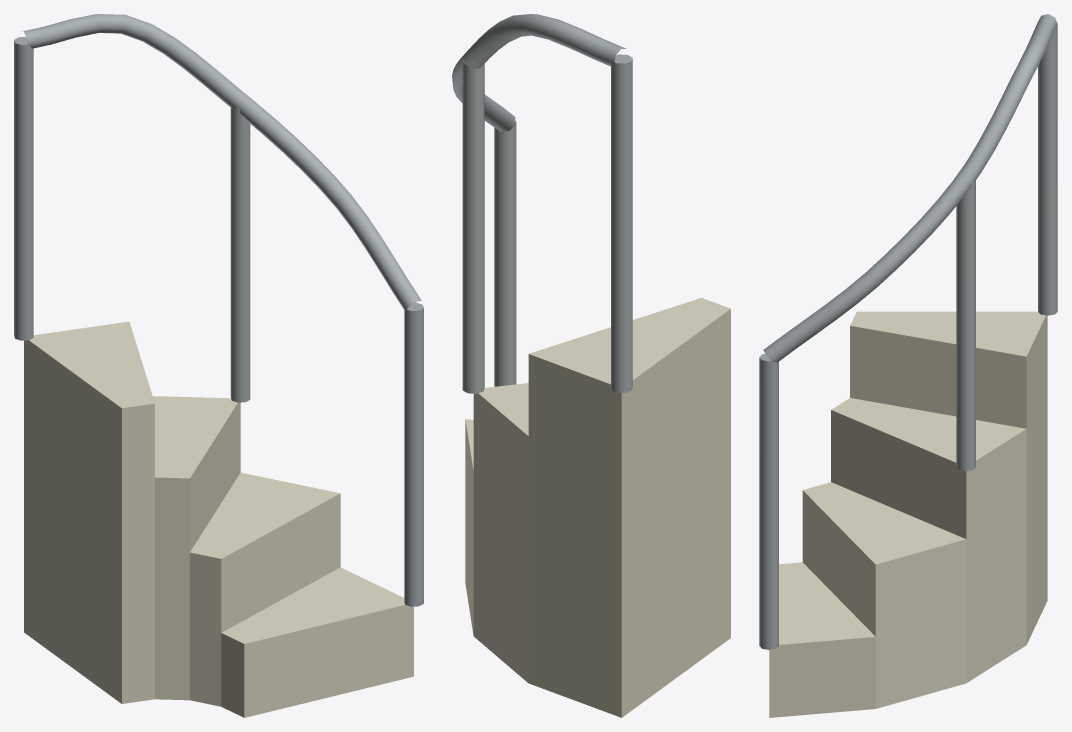
Rendered from rural-scavenging-settlements-stone-garden-stile-71b27c48__26600.glb.
The picture shows the model from 3 angles, left to right: view 1: azimuth 30°, elevation 25°; view 2: azimuth 150°, elevation 25°; view 3: azimuth 270°, elevation 25°; orthographic projection. The views are drawn at different scales.
Parts seen in each view (by area): view 1: stone-garden-stile; view 2: stone-garden-stile; view 3: stone-garden-stile.
Part boxes in pixels (left/top/right/bottom): stone-garden-stile: left=14, top=14, right=423, bottom=717; stone-garden-stile: left=452, top=14, right=730, bottom=717; stone-garden-stile: left=759, top=14, right=1057, bottom=717.
Size of the model in its own units: 0.75 by 1.64 by 0.75.
